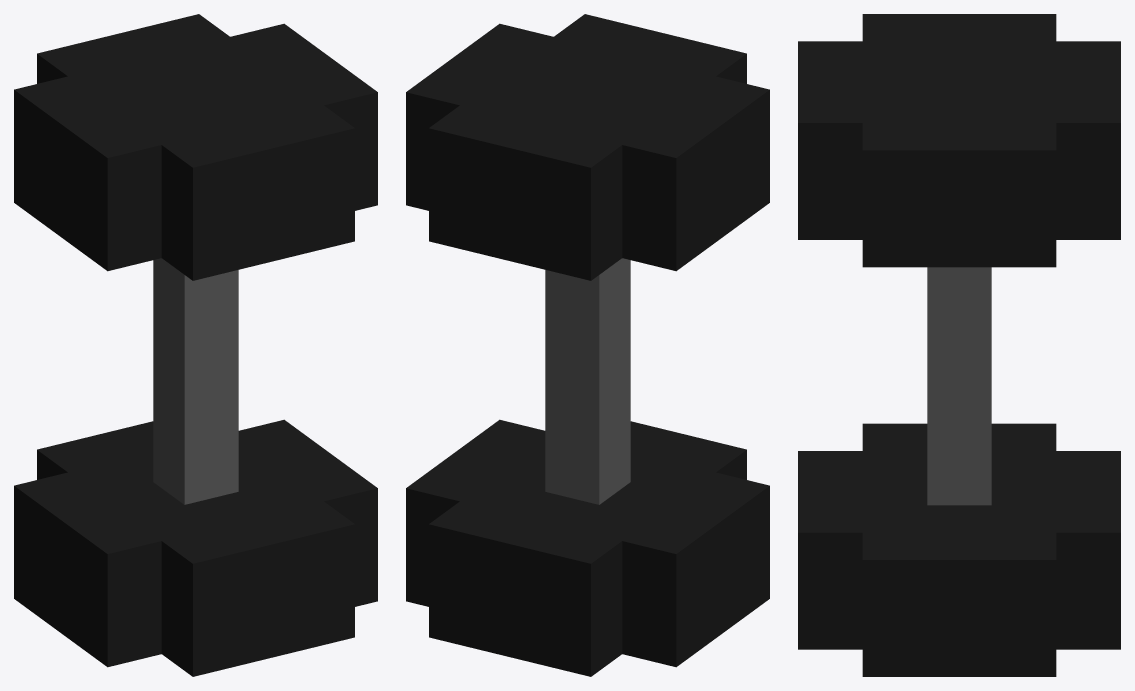
Rendered from Items-10.obj.
The picture shows the model from 3 angles, left to right: view 1: azimuth 30°, elevation 25°; view 2: azimuth 150°, elevation 25°; view 3: azimuth 270°, elevation 25°; orthographic projection. The views are drawn at different scales.
Bounding box in the file's own units: 0.5 × 0.9 × 0.5.
1 material, 1 textured.
